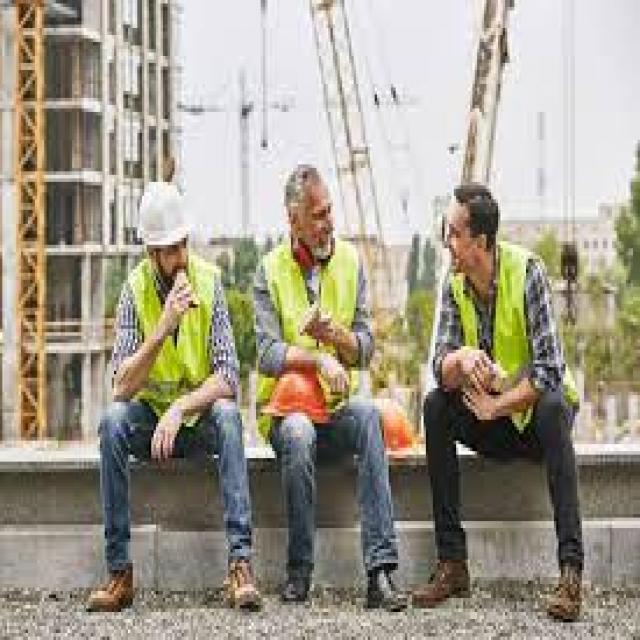Reflective-Jacket: (424, 244, 577, 440), (247, 231, 379, 444), (102, 252, 235, 437)
Safety-Helmet: (428, 172, 514, 256), (126, 172, 200, 262), (270, 147, 344, 224)
